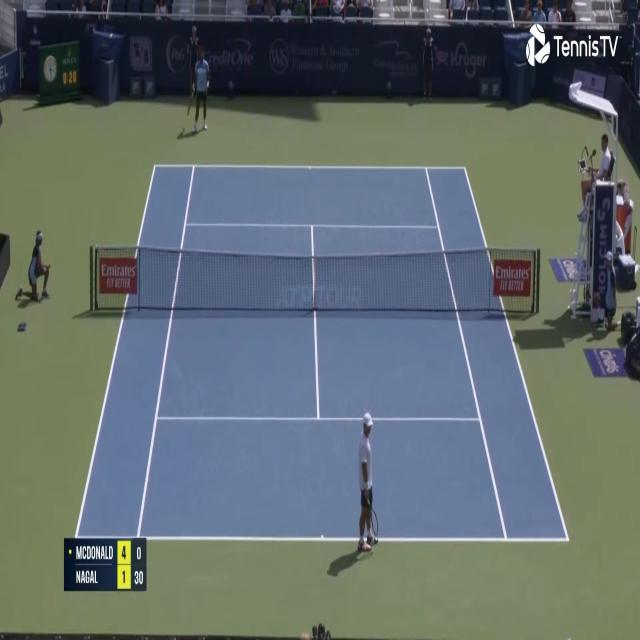tennis-player: (353, 408, 381, 560), (184, 45, 211, 135)
